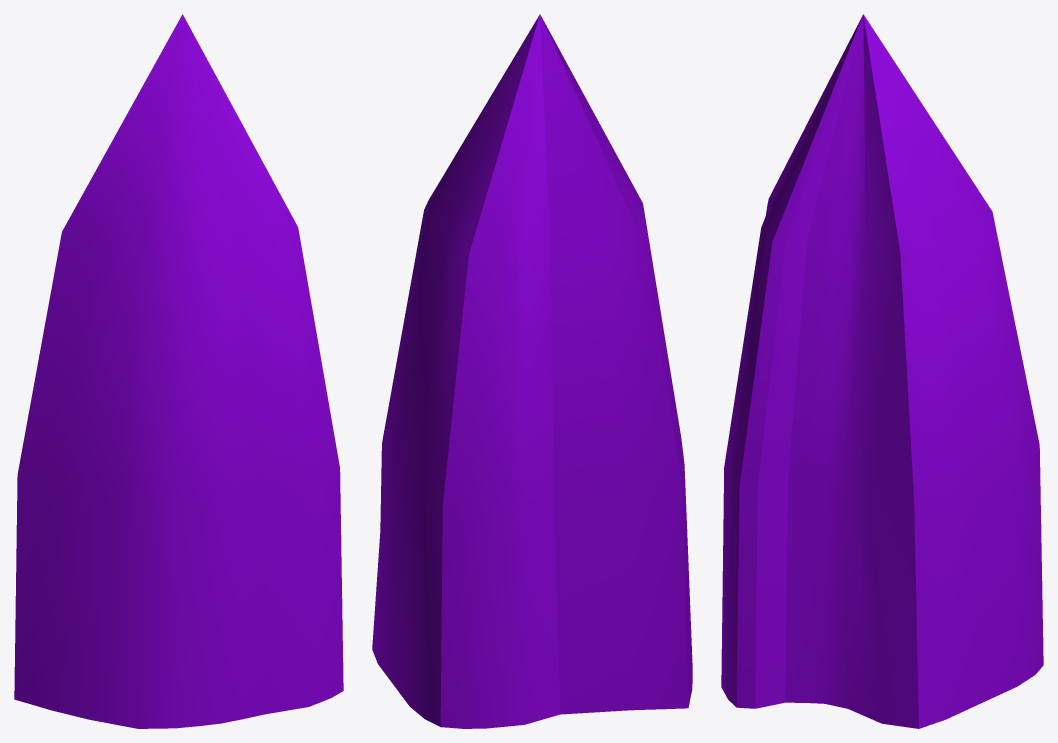
File: cave_crystal.fbx
3 renders of one model, left to right at view 1: azimuth 30°, elevation 25°; view 2: azimuth 150°, elevation 25°; view 3: azimuth 270°, elevation 25°, orthographic.
Parts seen in each view (by area): view 1: crystal; view 2: crystal; view 3: crystal.
Boxes of the visible parts, x1=… form: crystal: x1=14, y1=14, x2=343, y2=728; crystal: x1=372, y1=14, x2=692, y2=728; crystal: x1=721, y1=14, x2=1043, y2=728.
Size of the model in its own units: 37.92 by 79.09 by 35.67.
